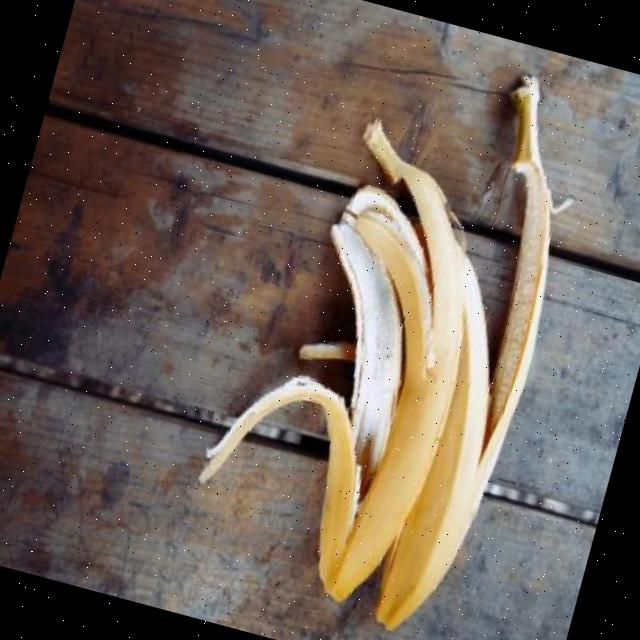banana-peel: (170, 16, 605, 640)
